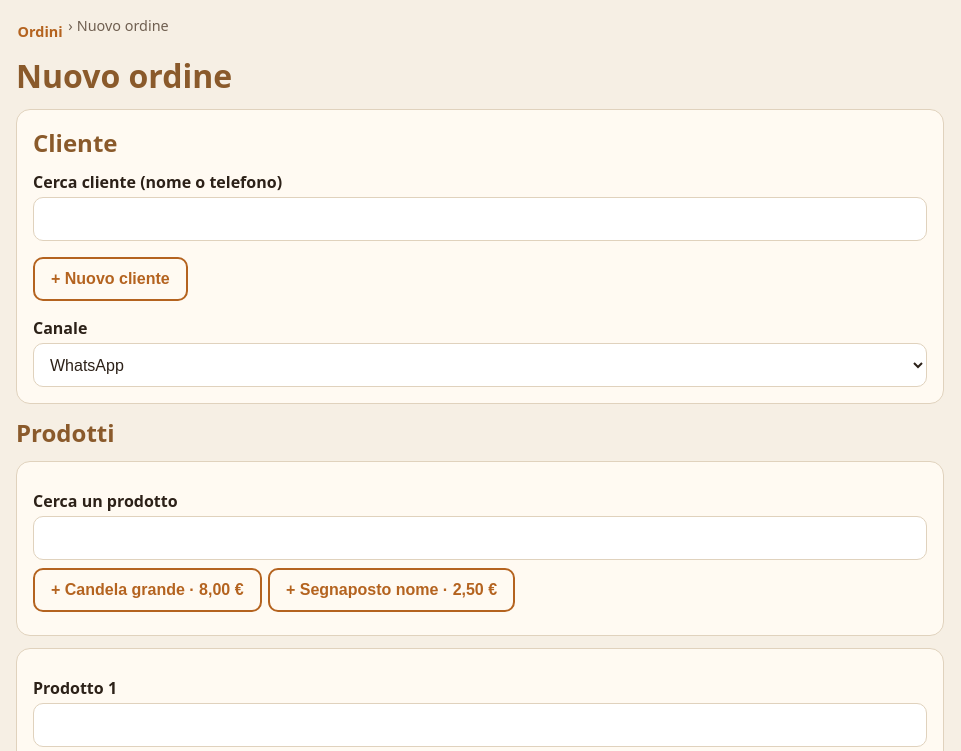
il listino precompila nome e prezzo, modificabili
Click the button "+ Candela grande · 8,00 €".
click(147, 590)  # box 33,568 -> 262,612
(page scrolled)
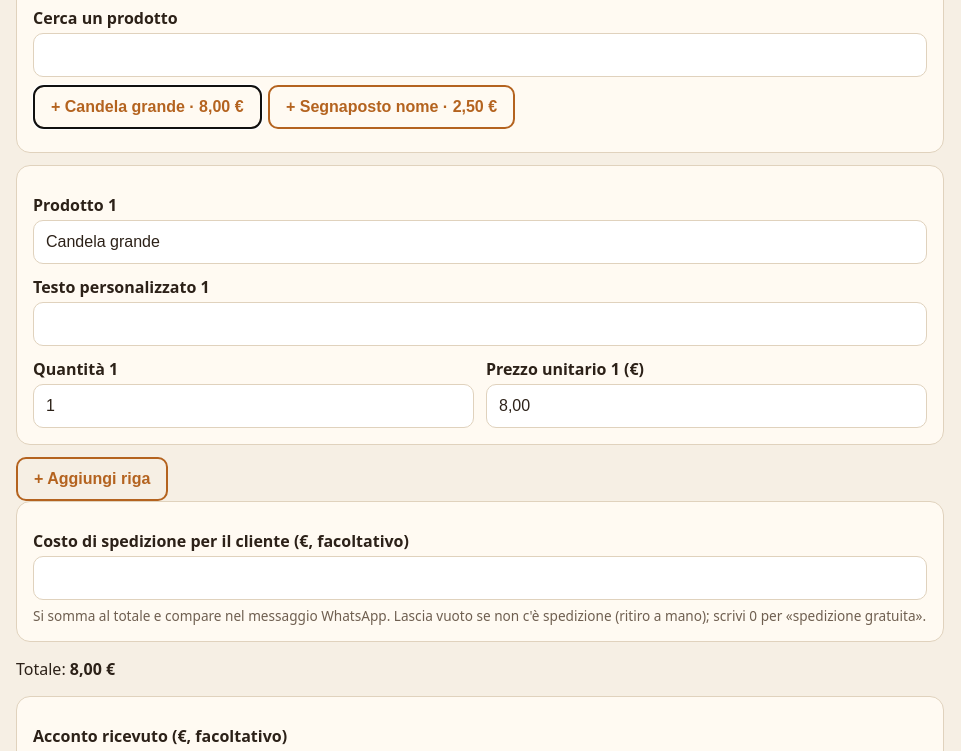
Now the field labelled "Prodotto 1" holds "Candela grande", box 33,220 -> 927,264
Now the field labelled "Prezzo unitario 1 (€)" holds "8,00"
Replace the text in the field labelled "Prezzo unitario 1 (€)" with "9" at (706, 406), box 486,384 -> 927,428
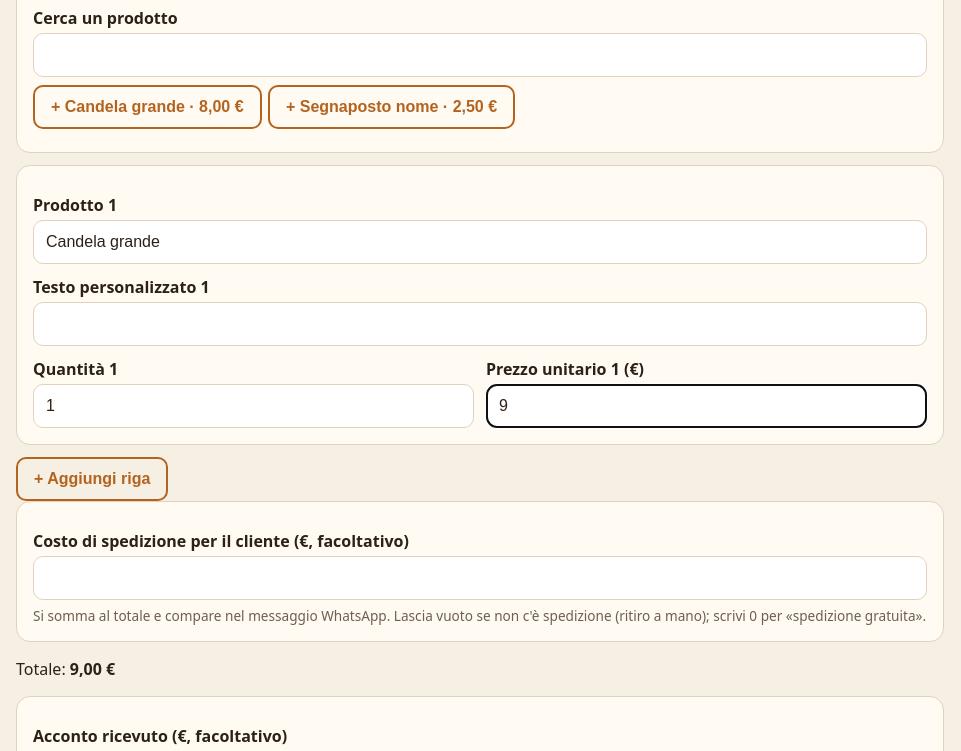
Now the text with test id "totale" shows "9,00", box 70,658 -> 115,680
